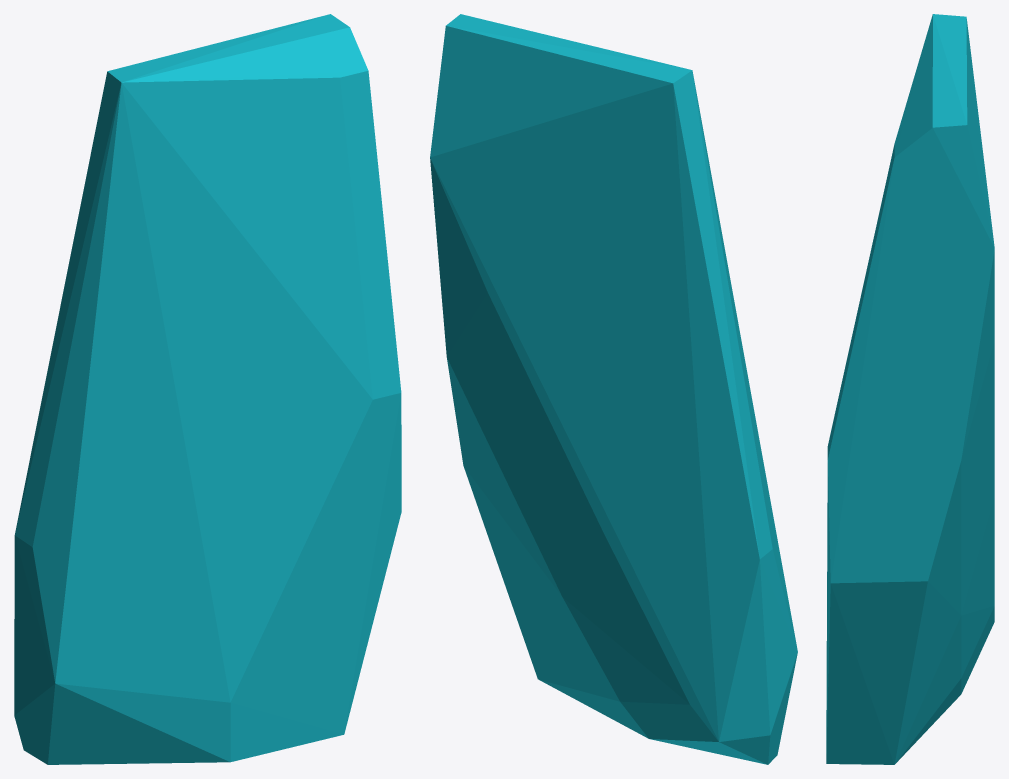
File: mouth_cup019.obj
The picture shows the model from 3 angles, left to right: view 1: azimuth 30°, elevation 25°; view 2: azimuth 150°, elevation 25°; view 3: azimuth 270°, elevation 25°; orthographic projection.
Parts seen in each view (by area): view 1: mouth_cup019_mouth_cup019.001; view 2: mouth_cup019_mouth_cup019.001; view 3: mouth_cup019_mouth_cup019.001.
Boxes of the visible parts, box(x1,y1,x2,y2) form: mouth_cup019_mouth_cup019.001: box(14, 14, 401, 764); mouth_cup019_mouth_cup019.001: box(430, 14, 797, 764); mouth_cup019_mouth_cup019.001: box(826, 14, 994, 764).
Size of the model in its own units: 0.1067 by 0.2092 by 0.0476.
